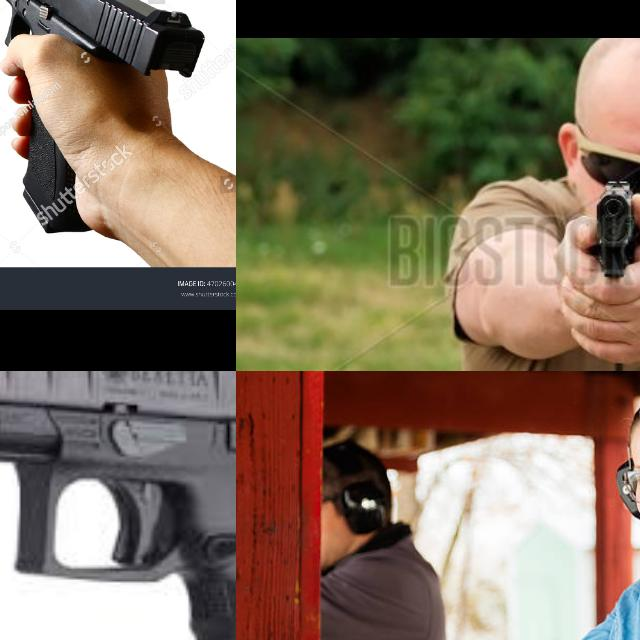handgun: (0, 371, 236, 640), (0, 0, 209, 79), (592, 176, 640, 278)
